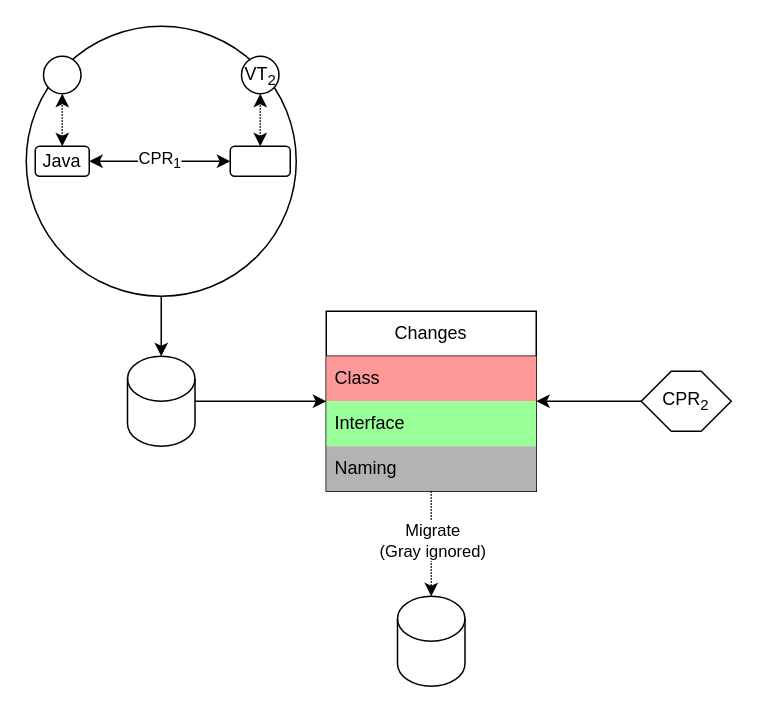
The diagram is 758 pixels wide and 713 high, and some of its shapes have lost their labels. The shapes that lost their labels are listed below. From the top down, each one's centre as x and y in pixels, then its label:
At (61,74): "VT 1".
At (259,160): "UML".
At (160,400): "V-SUM".
At (430,640): "V-SUM*".
